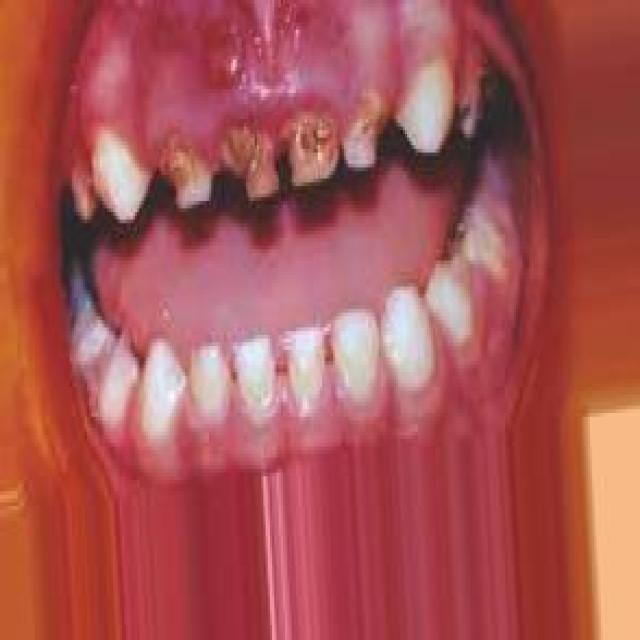caries: (280, 99, 342, 192), (155, 134, 217, 222), (219, 124, 281, 205), (342, 93, 391, 182)
